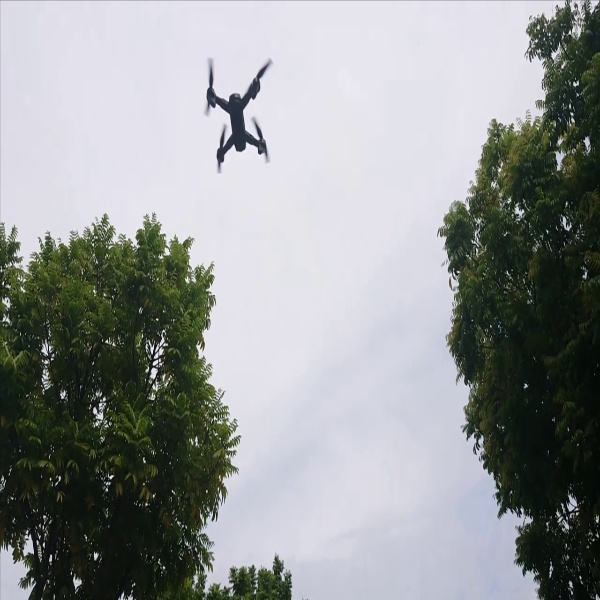drone: (192, 54, 283, 177)
